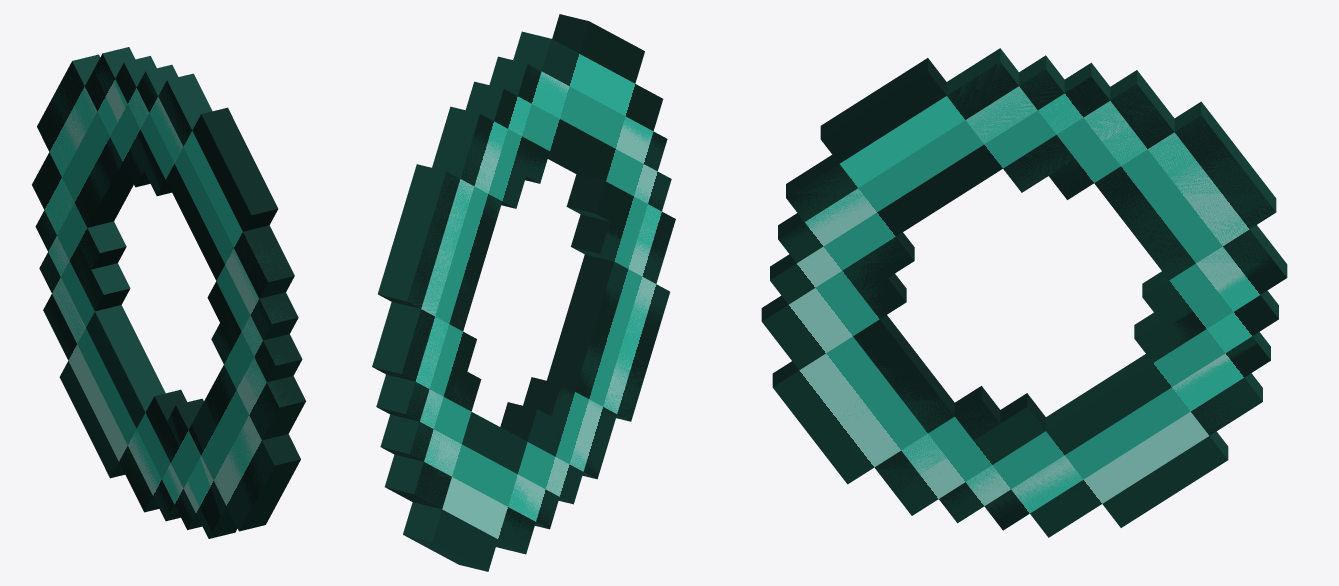
Rendered from diamond_chakram.glb.
The picture shows the model from 3 angles, left to right: view 1: azimuth 30°, elevation 25°; view 2: azimuth 150°, elevation 25°; view 3: azimuth 270°, elevation 25°; orthographic projection. The views are drawn at different scales.
Visible parts, largest first — view 1: main__Tool_R, off__Tool_L; view 2: off__Tool_L, main__Tool_R; view 3: main__Tool_R, off__Tool_L.
Boxes of the visible parts, <box> form: main__Tool_R: <box>32,53,305,538</box>; off__Tool_L: <box>34,47,305,532</box>; off__Tool_L: <box>372,14,675,567</box>; main__Tool_R: <box>372,21,674,571</box>; main__Tool_R: <box>762,63,1286,537</box>; off__Tool_L: <box>761,48,1287,530</box>.
Size of the model in its own units: 0.0531 by 0.9749 by 0.9749.
1 material, 1 textured.
